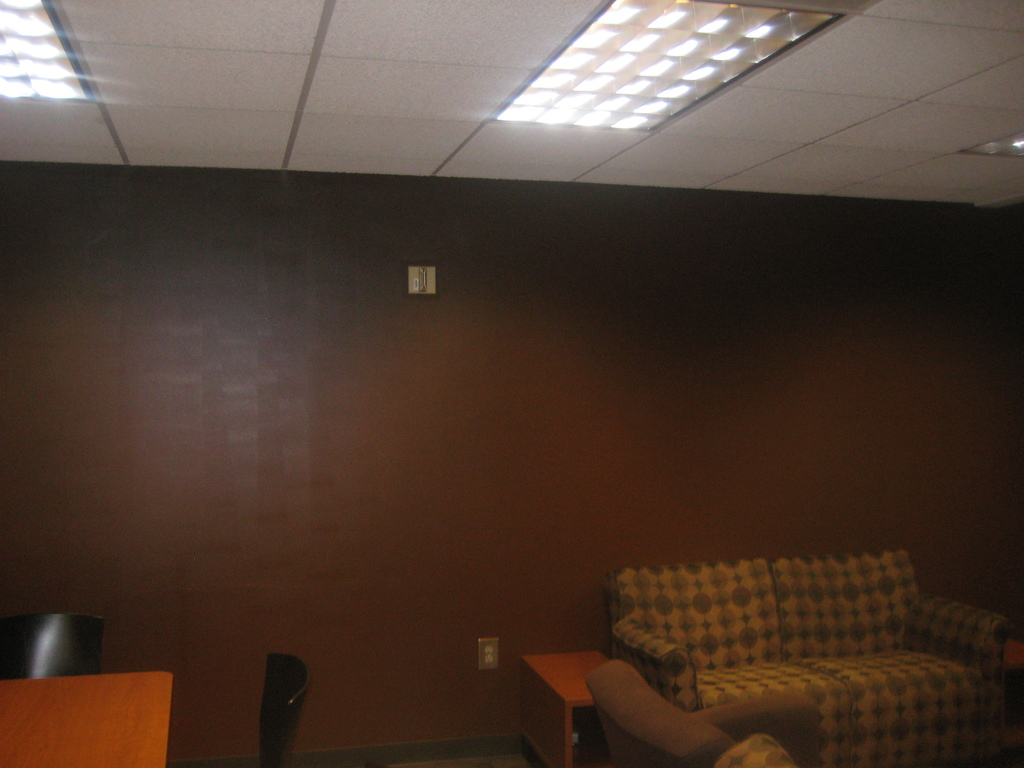Couch: (590, 558, 1020, 762)
